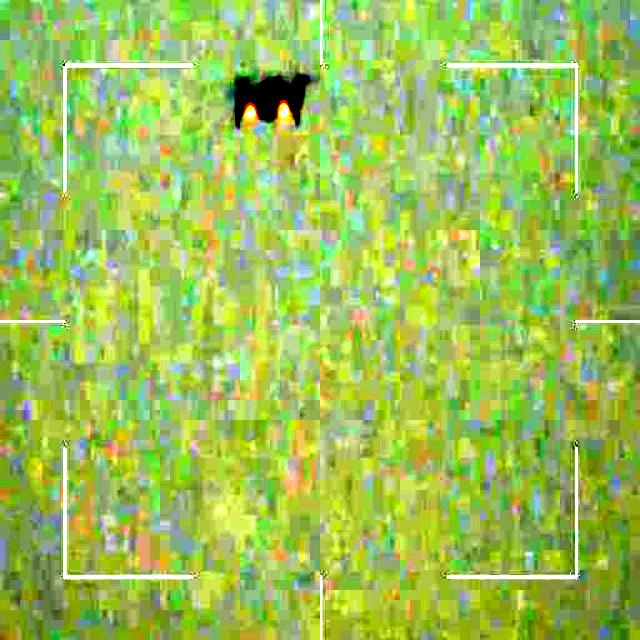bird: (230, 75, 312, 125)
